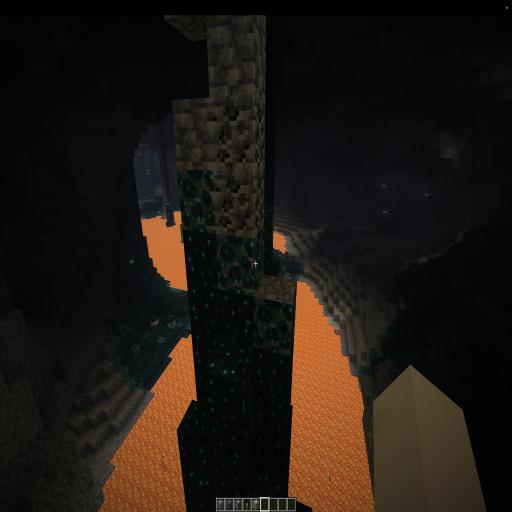coal ore: (210, 96, 267, 238)
redstone ore: (334, 324, 348, 345)
